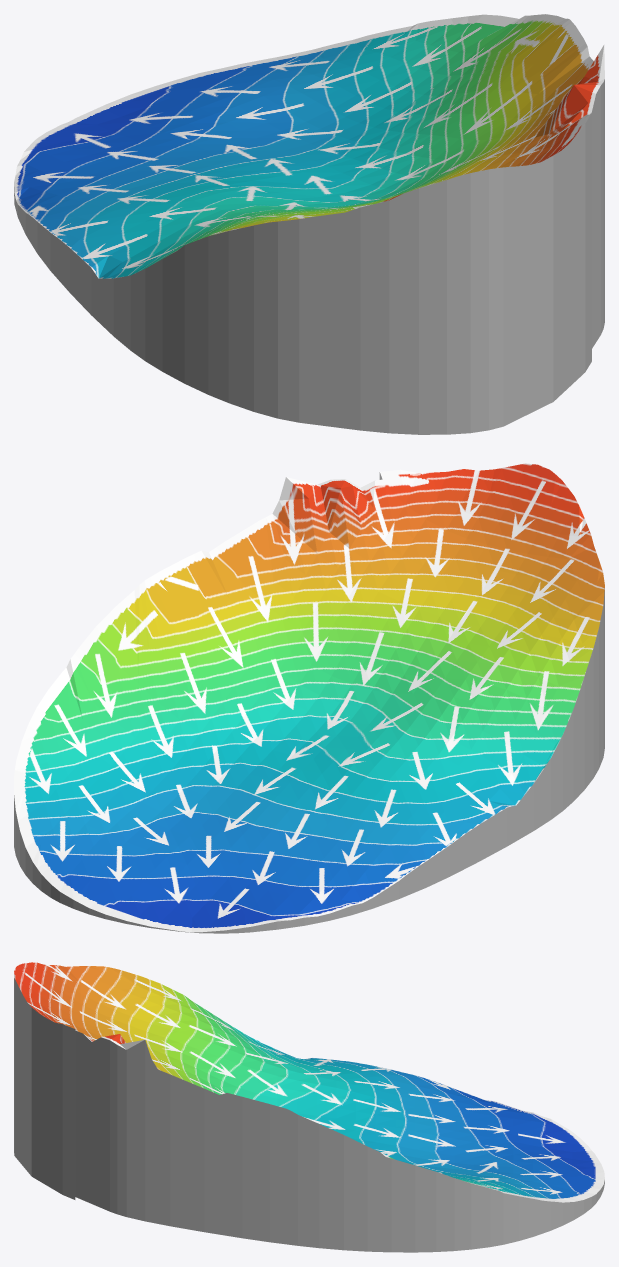
3 renders of one model, top to bottom at view 1: azimuth 30°, elevation 25°; view 2: azimuth 150°, elevation 25°; view 3: azimuth 270°, elevation 25°, orthographic. The views are drawn at different scales.
Size of the model in its own units: 3.51 by 1.81 by 5.32.
Materials: 2 (1 with a texture image).
